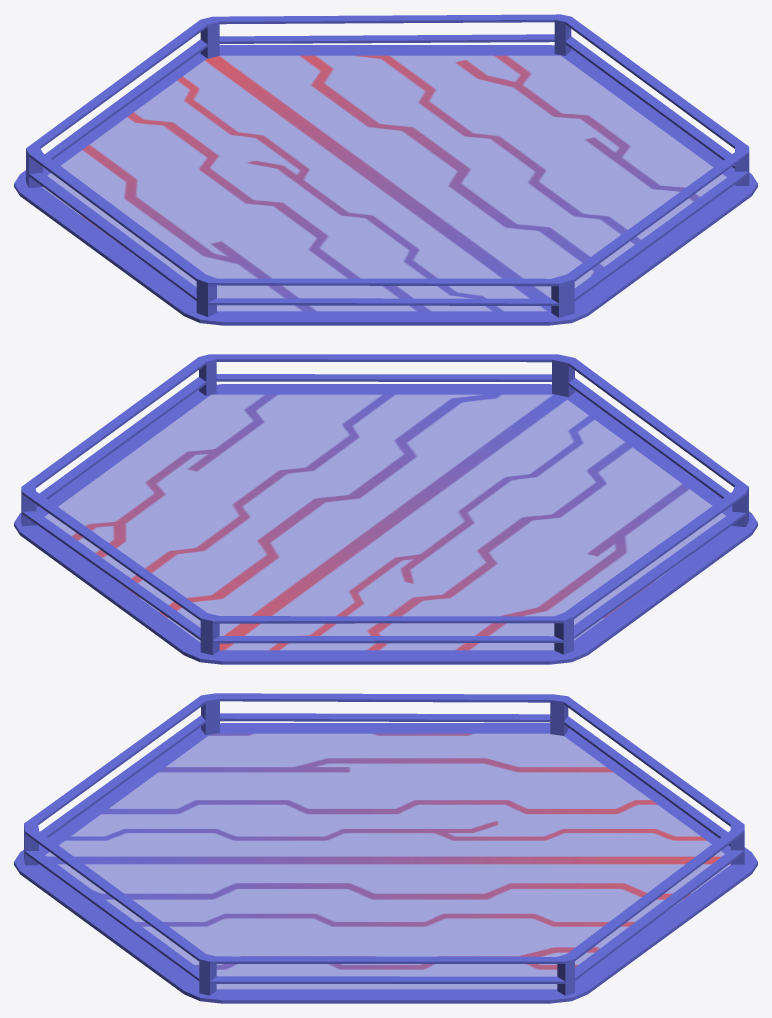
The model's file is arena.fbx.
The picture shows the model from 3 angles, top to bottom: view 1: azimuth 30°, elevation 25°; view 2: azimuth 150°, elevation 25°; view 3: azimuth 270°, elevation 25°; orthographic projection.
Parts seen in each view (by area): view 1: Cylinder.006; view 2: Cylinder.006; view 3: Cylinder.006.
Boxes of the visible parts, <box> form: Cylinder.006: <box>14,14,757,325</box>; Cylinder.006: <box>14,354,757,664</box>; Cylinder.006: <box>14,693,757,1003</box>.
Bounding box in the file's own units: 4379 × 277 × 4969.
